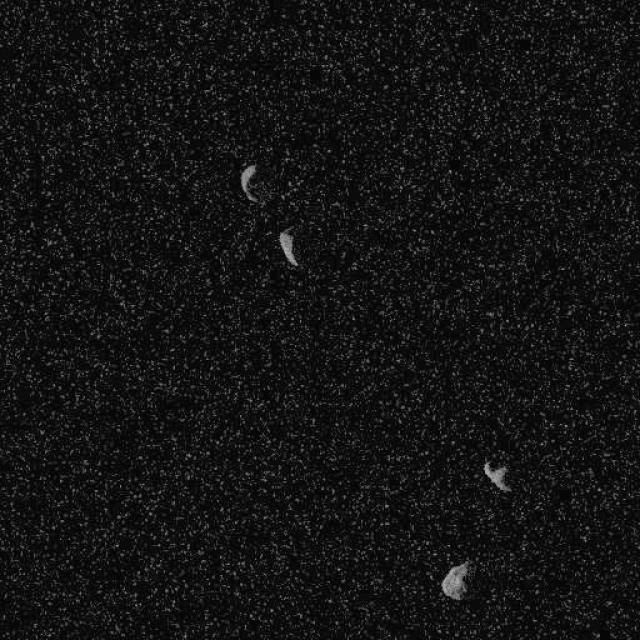D2: (440, 560, 472, 600), (481, 458, 511, 492), (239, 162, 261, 204), (278, 226, 298, 268)
